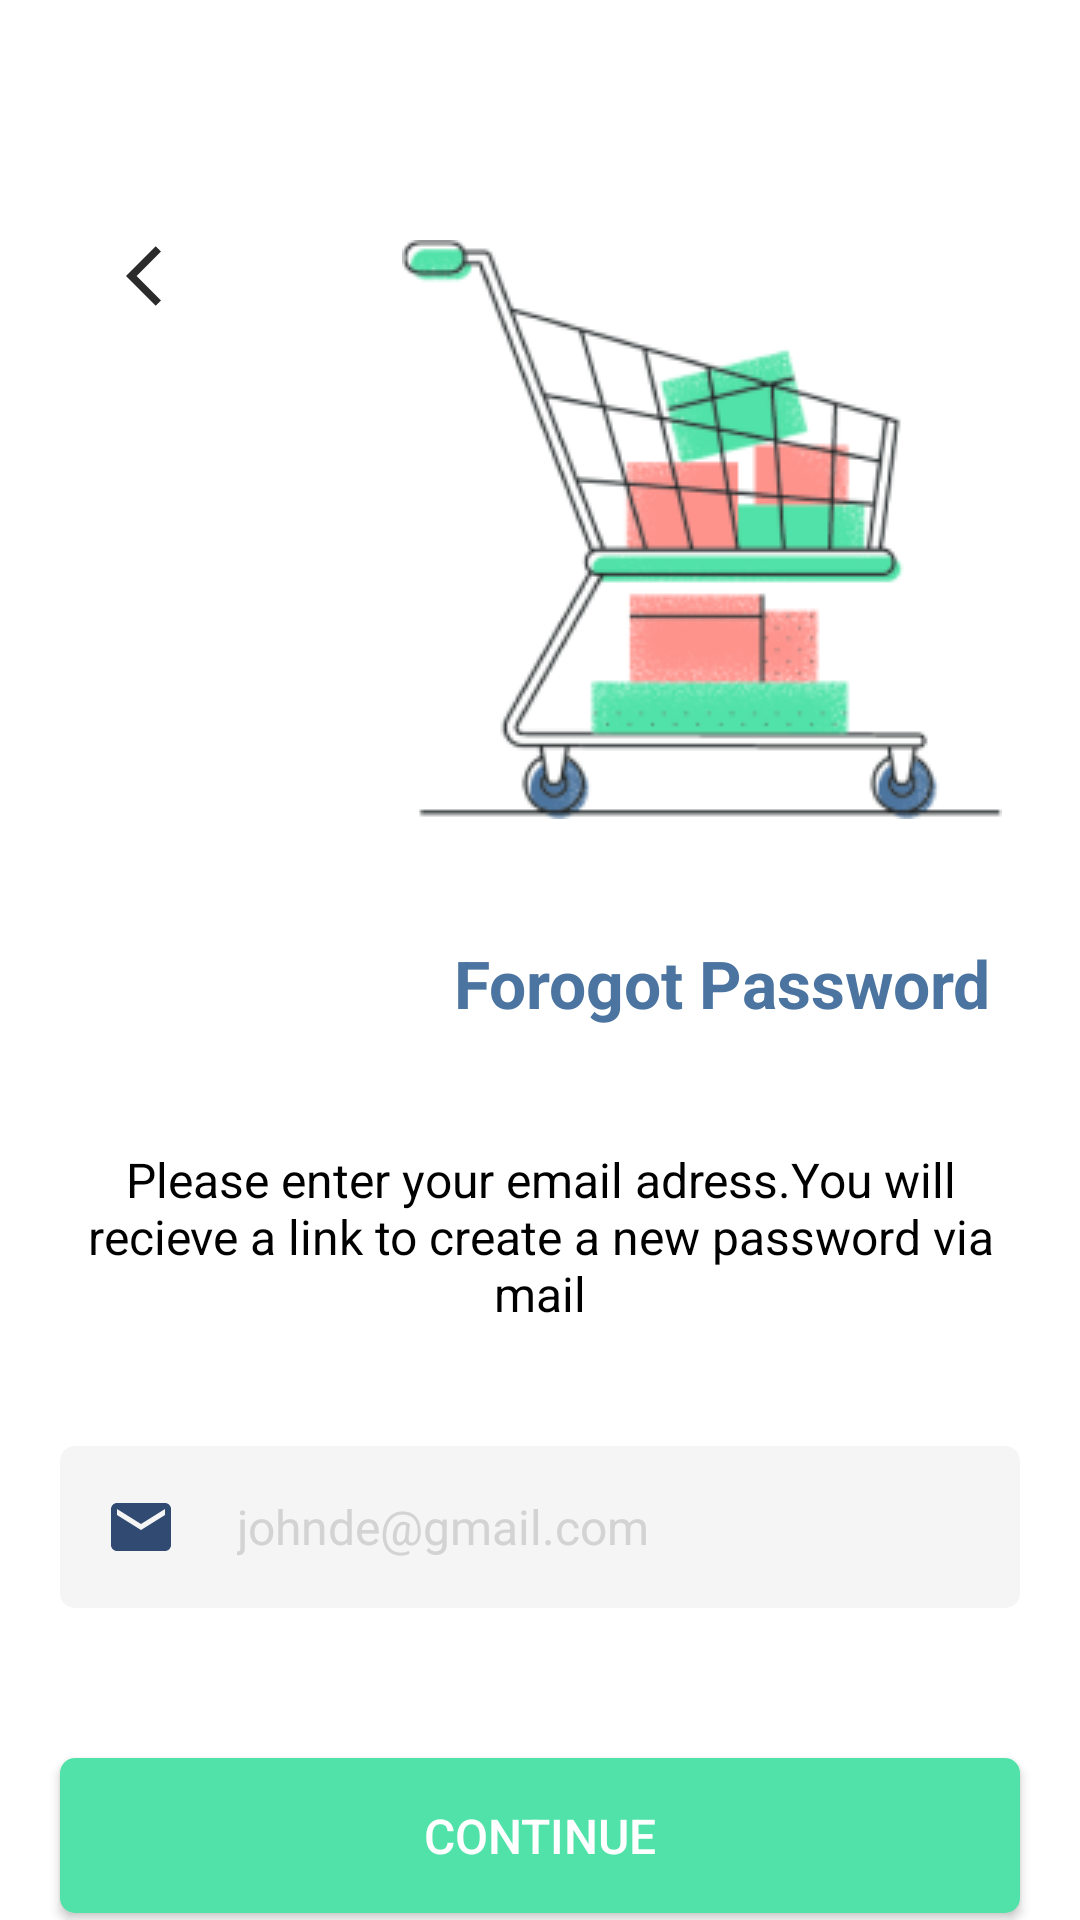

Icons on this 1080 x 1920 Android screen, each with the point to tap as [x,y]:
arrowback: [143,276]
